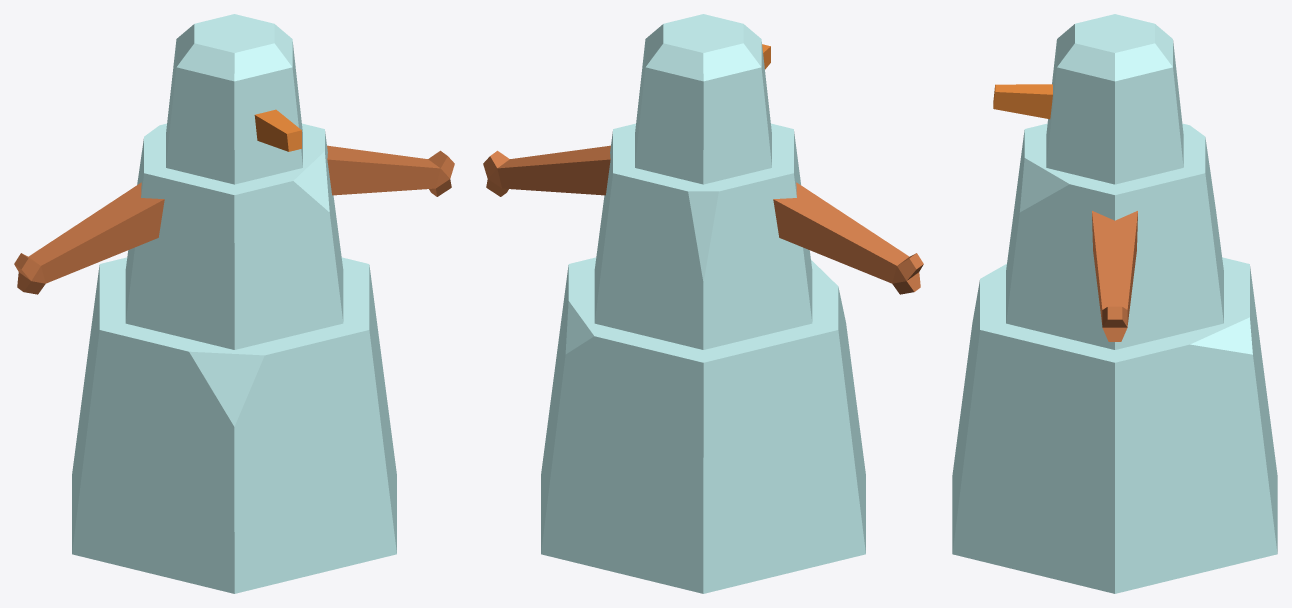
Rendered from snowman.dae.
The picture shows the model from 3 angles, left to right: view 1: azimuth 30°, elevation 25°; view 2: azimuth 150°, elevation 25°; view 3: azimuth 270°, elevation 25°; orthographic projection.
Visible parts, largest first — view 1: snowman; view 2: snowman; view 3: snowman.
Boxes of the visible parts, bbox=[...] form: snowman: bbox=[14, 14, 454, 593]; snowman: bbox=[483, 14, 923, 593]; snowman: bbox=[952, 14, 1277, 593].
Bounding box in the file's own units: 0.6935 × 0.7356 × 0.4503.
